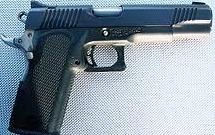gun: (1, 1, 215, 135)
